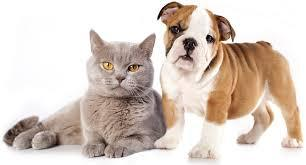animals: (157, 2, 305, 152), (3, 28, 166, 160)
